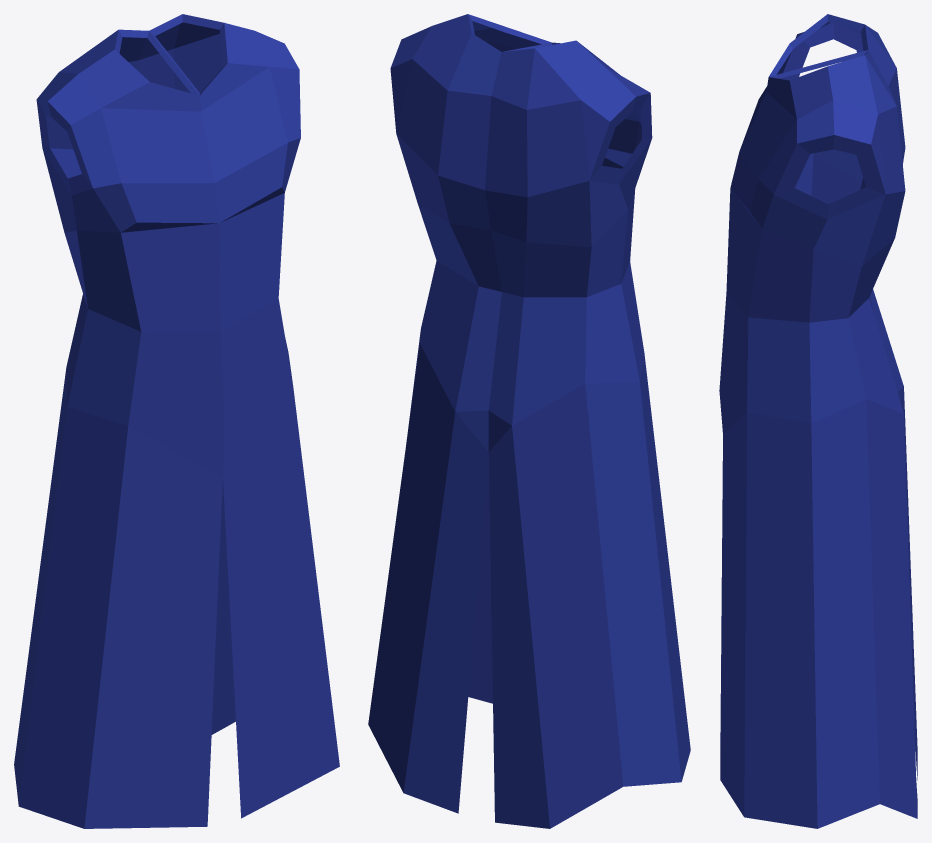
Rendered from Tunic.fbx.
3 views of the same model, side by side, from view 1: azimuth 30°, elevation 25°; view 2: azimuth 150°, elevation 25°; view 3: azimuth 270°, elevation 25° (orthographic). The views are drawn at different scales.
Visible parts, largest first — view 1: male.002; view 2: male.002; view 3: male.002.
Boxes of the visible parts, bbox=[...] form: male.002: bbox=[14, 14, 339, 828]; male.002: bbox=[368, 14, 690, 828]; male.002: bbox=[719, 14, 917, 828].
Bounding box in the file's own units: 119 × 278 × 66.5.
